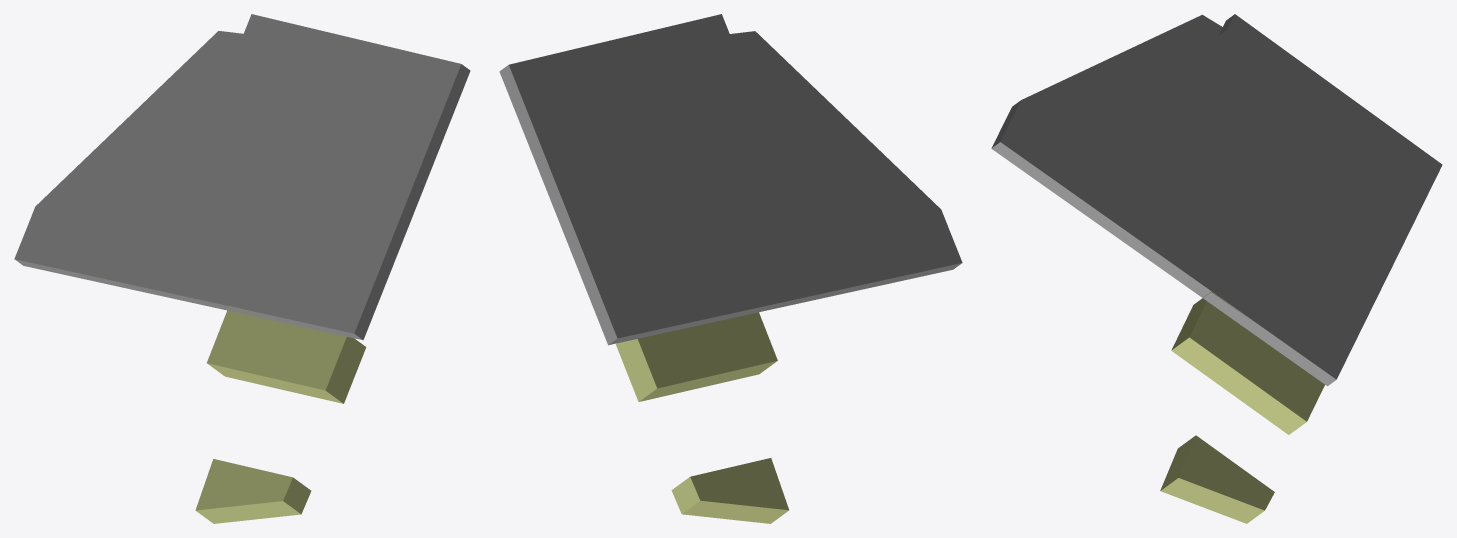
The picture shows the model from 3 angles, left to right: view 1: azimuth 30°, elevation 25°; view 2: azimuth 150°, elevation 25°; view 3: azimuth 330°, elevation 25°; orthographic projection. The views are drawn at different scales.
Visible parts, largest first — view 1: 0_1_0_0_0_1_3_3; view 2: 0_1_0_0_0_1_3_3; view 3: 0_1_0_0_0_1_3_3.
Part boxes in pixels (box(x1,y1,x2,y2)): 0_1_0_0_0_1_3_3: box(14, 14, 470, 523); 0_1_0_0_0_1_3_3: box(499, 14, 962, 523); 0_1_0_0_0_1_3_3: box(991, 14, 1442, 523).
Size of the model in its own units: 84.27 by 88.99 by 6.2.
